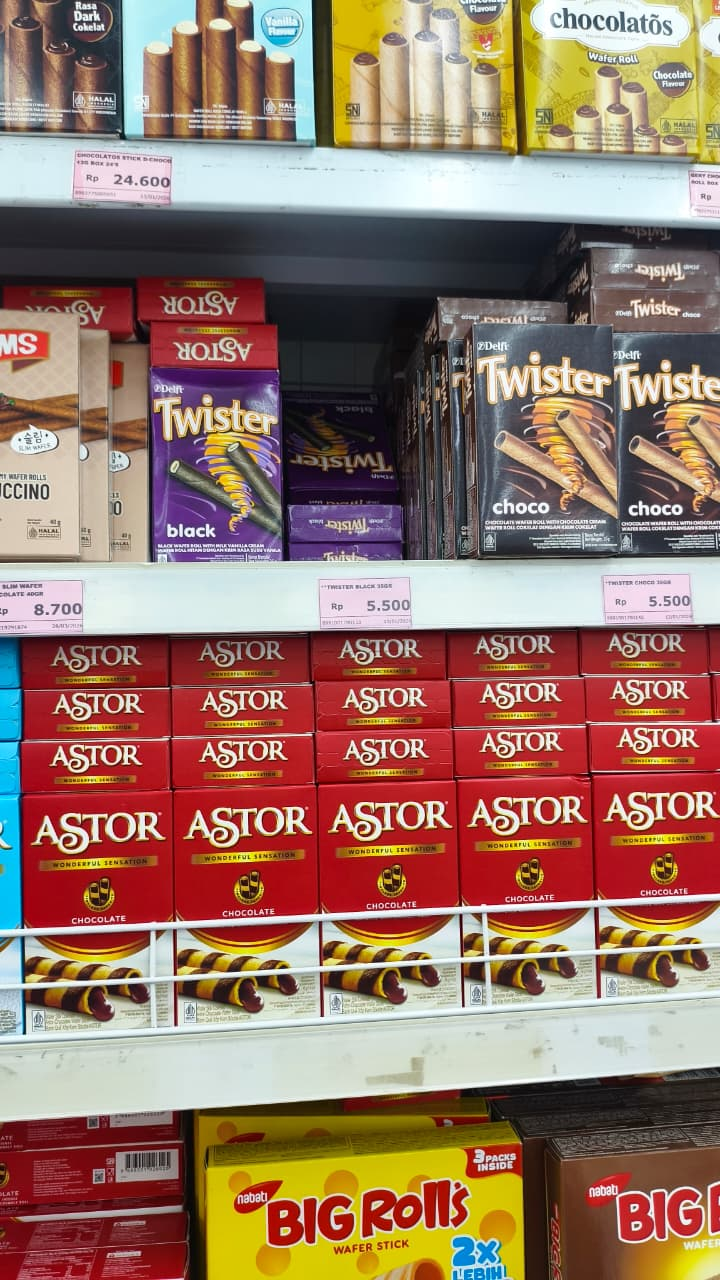Astor: (315, 780, 466, 860), (21, 786, 172, 866), (458, 775, 609, 855), (330, 721, 449, 772)
BIG Roll's: (219, 1142, 492, 1262)
Twister: (137, 380, 298, 466), (463, 345, 624, 431)
